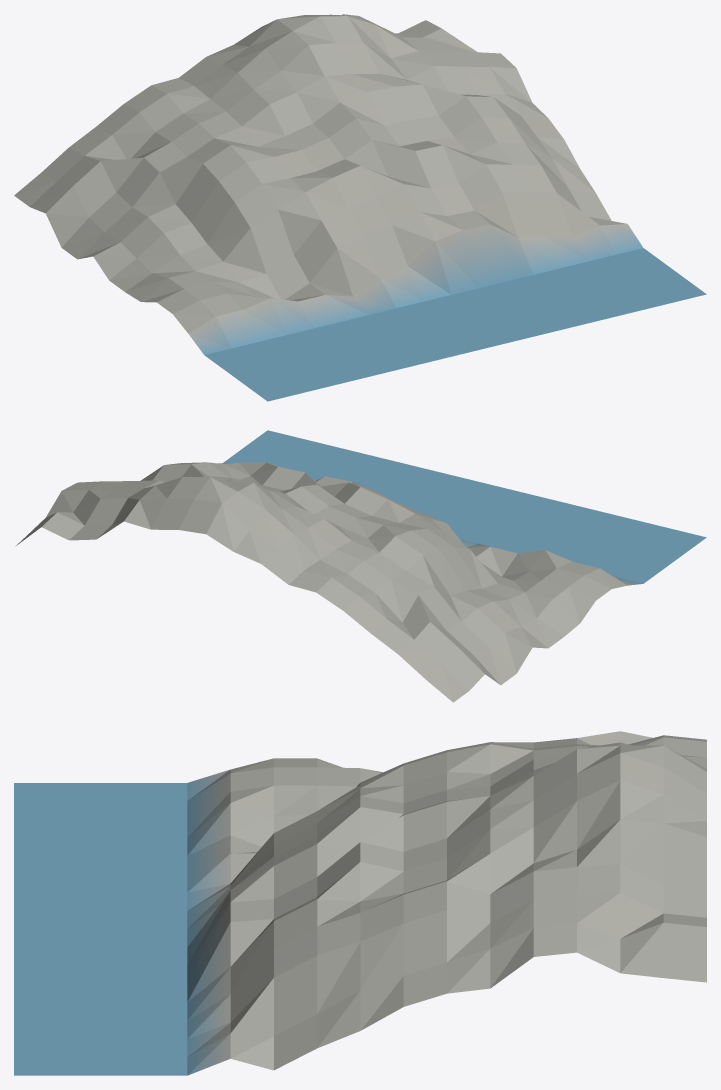
3 views of the same model, one above another, from view 1: azimuth 30°, elevation 25°; view 2: azimuth 150°, elevation 25°; view 3: azimuth 270°, elevation 25° (orthographic). The views are drawn at different scales.
Size of the model in its own units: 32 by 10.84 by 32.
